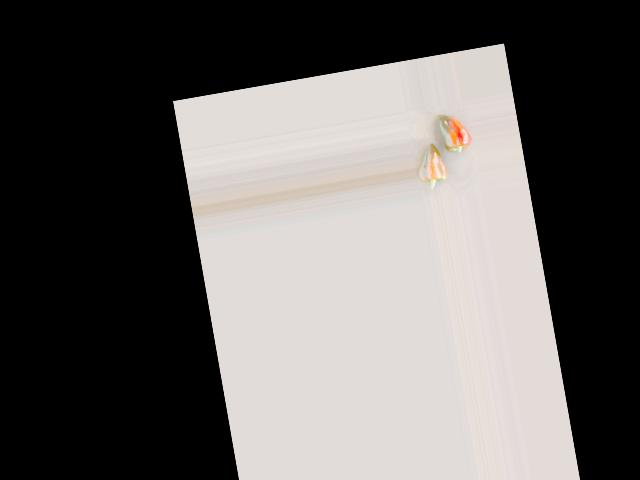bell_pepper: (434, 107, 477, 169)
